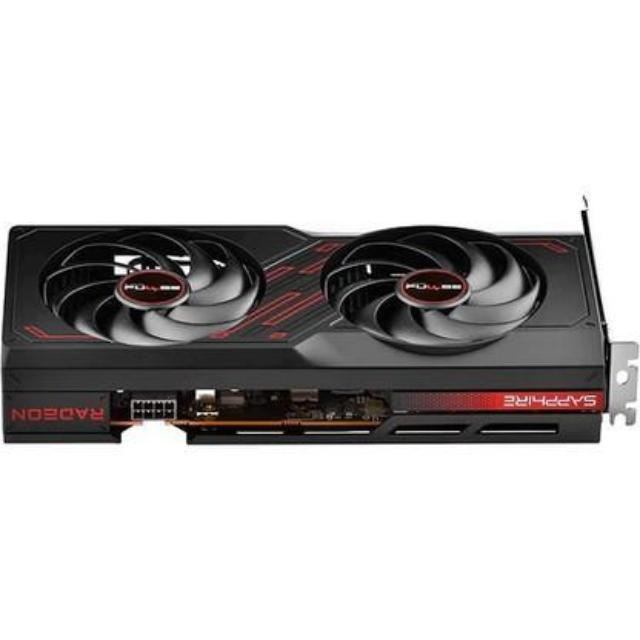GPU: (0, 204, 637, 446)
